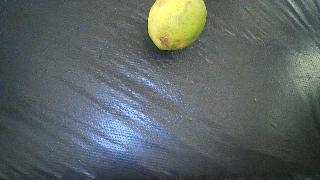DESECHO: (148, 0, 207, 50)
